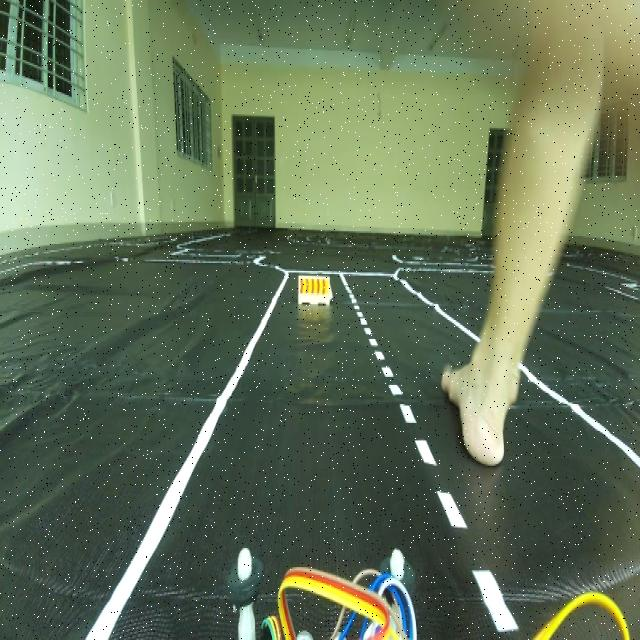roadblock: (294, 262, 336, 311)
